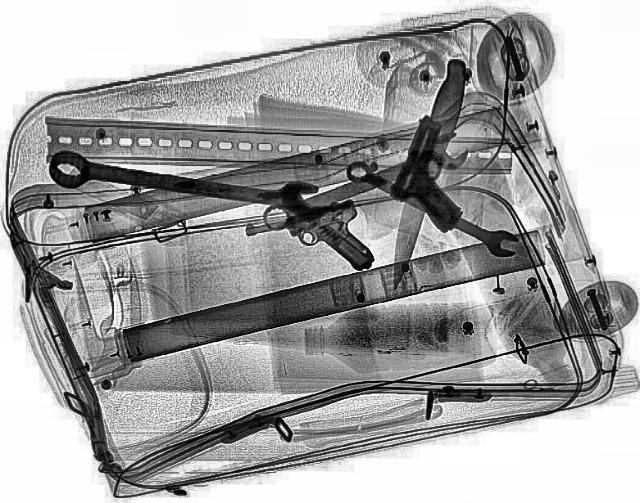Gun: (375, 114, 497, 232), (240, 198, 382, 290)
Knife: (381, 56, 474, 290)
Wrench: (43, 147, 330, 218), (336, 156, 526, 262)
